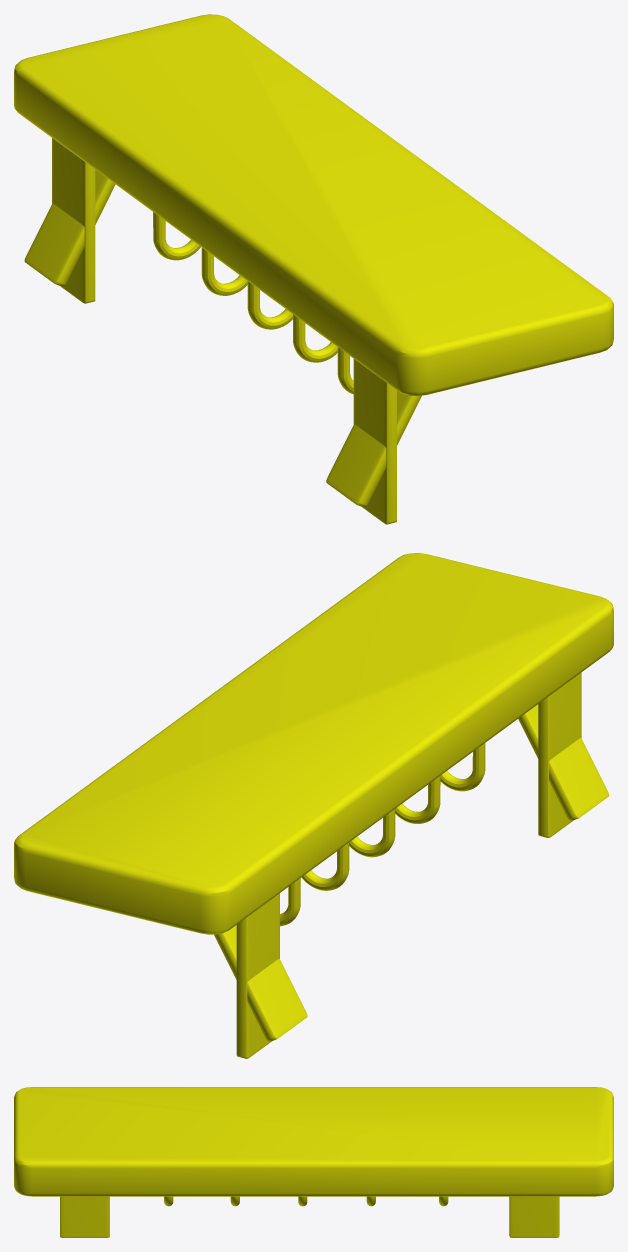
The model's file is OnlyShelf.fbx.
3 views of the same model, one above another, from view 1: azimuth 30°, elevation 25°; view 2: azimuth 150°, elevation 25°; view 3: azimuth 270°, elevation 25° (orthographic). The views are drawn at different scales.
Visible parts, largest first — view 1: polySurface37; view 2: polySurface37; view 3: polySurface37.
Part boxes in pixels (box(x1,y1,x2,y2)): polySurface37: box(14, 14, 613, 524); polySurface37: box(14, 553, 613, 1058); polySurface37: box(14, 1087, 613, 1237).
Bounding box in the file's own units: 42.18 × 33.51 × 126.
